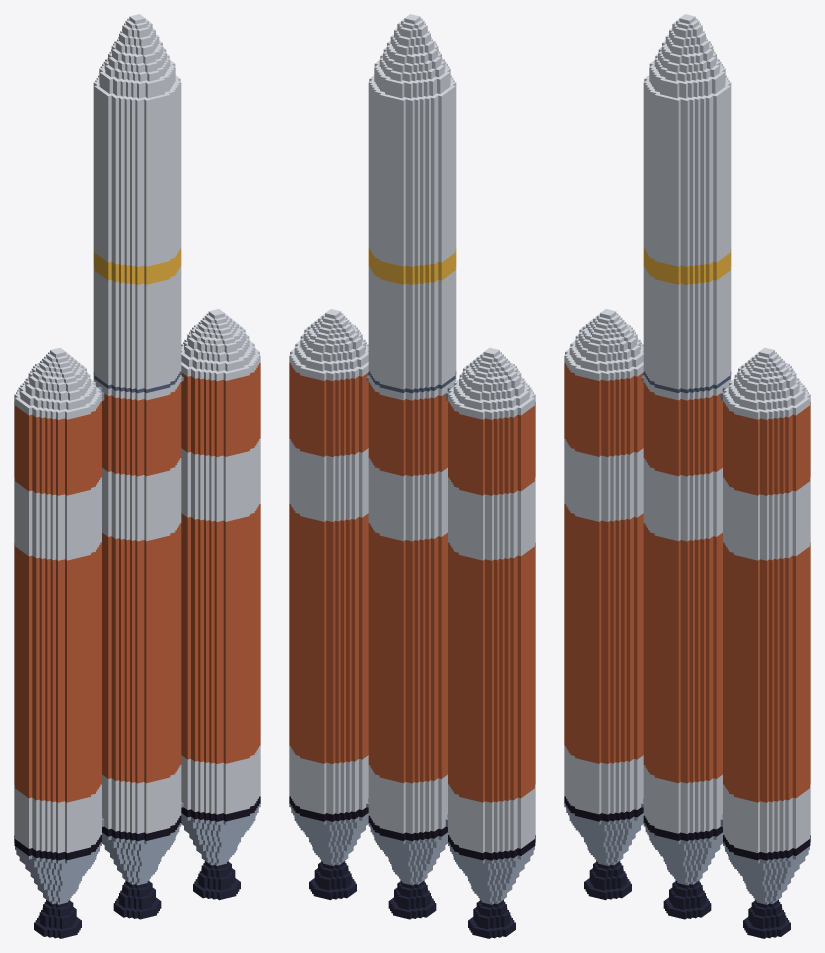
The model's file is Lake_IV_Heavy.glb.
3 views of the same model, side by side, from view 1: azimuth 30°, elevation 25°; view 2: azimuth 150°, elevation 25°; view 3: azimuth 330°, elevation 25° (orthographic).
Parts seen in each view (by area): view 1: ObjObject.010; view 2: ObjObject.010; view 3: ObjObject.010.
Part boxes in pixels (x1,y1,x2,y2): ObjObject.010: (14,14,260,938); ObjObject.010: (289,14,535,938); ObjObject.010: (564,14,810,938).
Size of the model in its own units: 6.7 by 24.7 by 2.1.
Materials: 1 (1 with a texture image).
